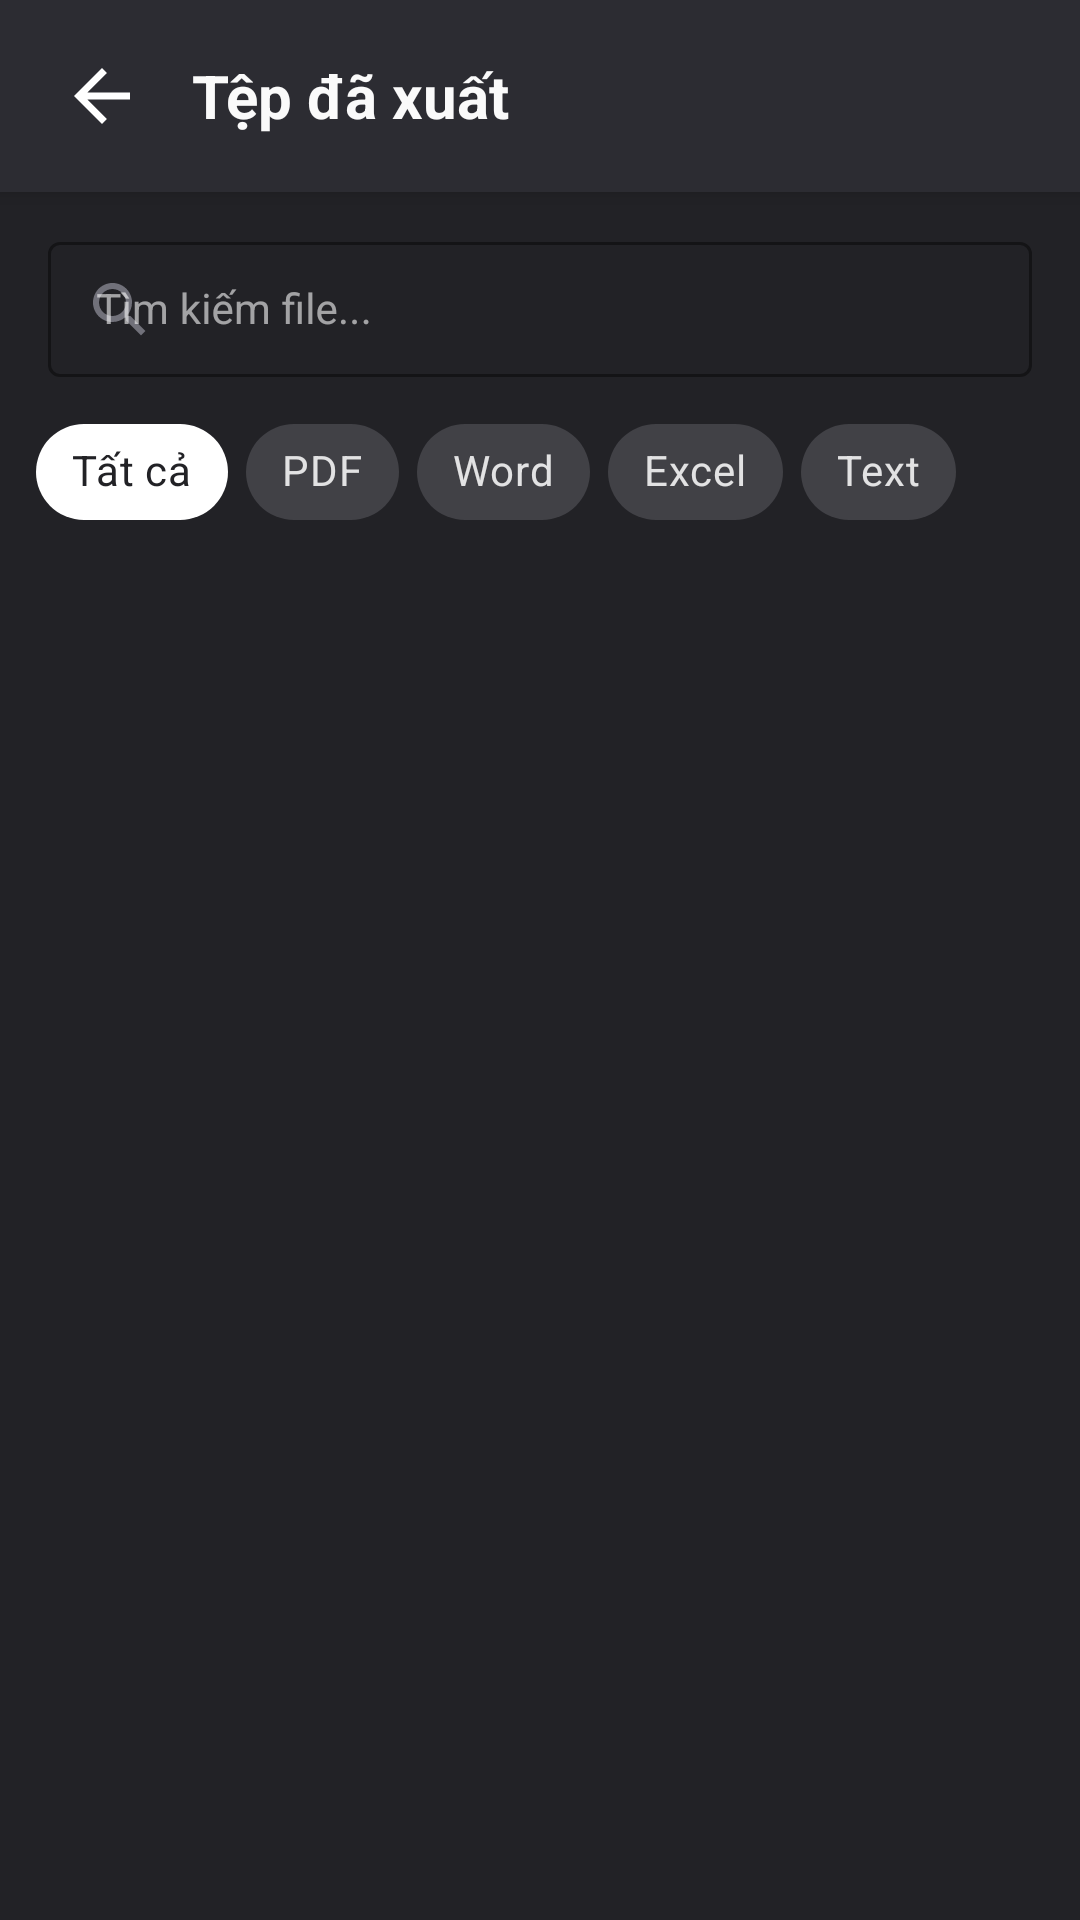

Icons on this 1080px×1920px Android screen, each with its box as (x1, y1, x2, y2):
arrow back: (74, 68, 130, 124)
